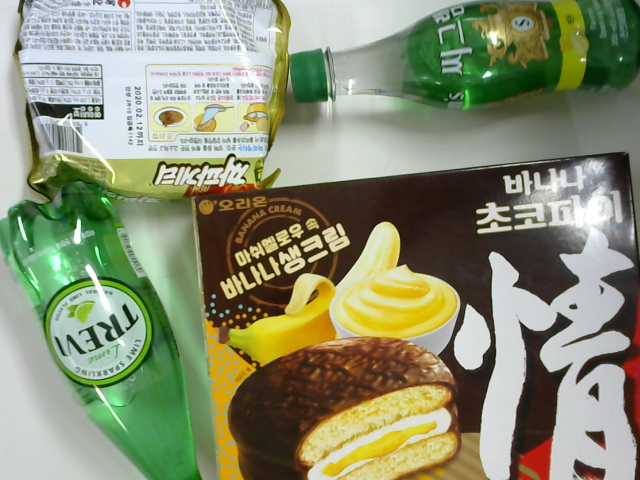Choco_Pie_Banana: (189, 154, 636, 480)
Seagram_Lemon_Carbonated_Water: (289, 6, 640, 109)
Sichuan_Chapaghetti: (15, 6, 281, 204)
Treviraim_500ml: (1, 192, 194, 480)
